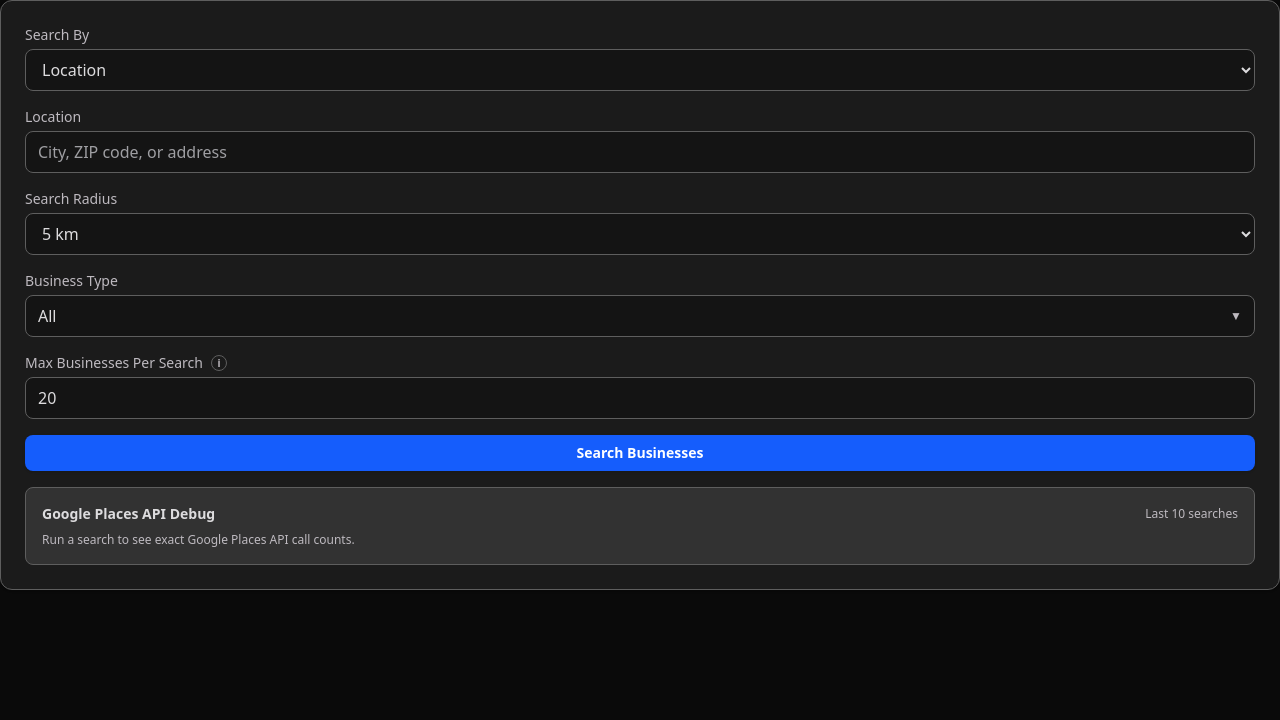
Test case: SearchForm › closes business type dropdown when Escape is pressed
Click the button with aria-label "business type": (47, 316) [25, 295, 1255, 337]
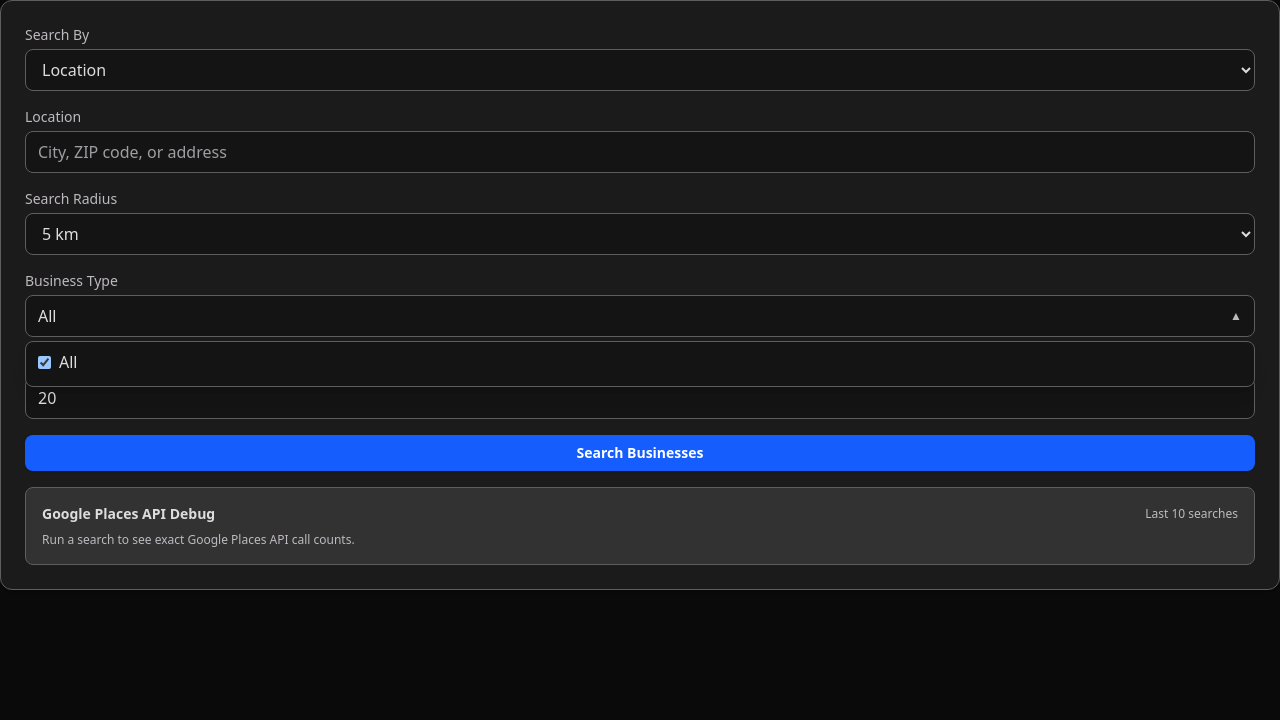
Expected: the button with aria-label "business type" is expanded, [25, 295, 1255, 337]
Press Escape
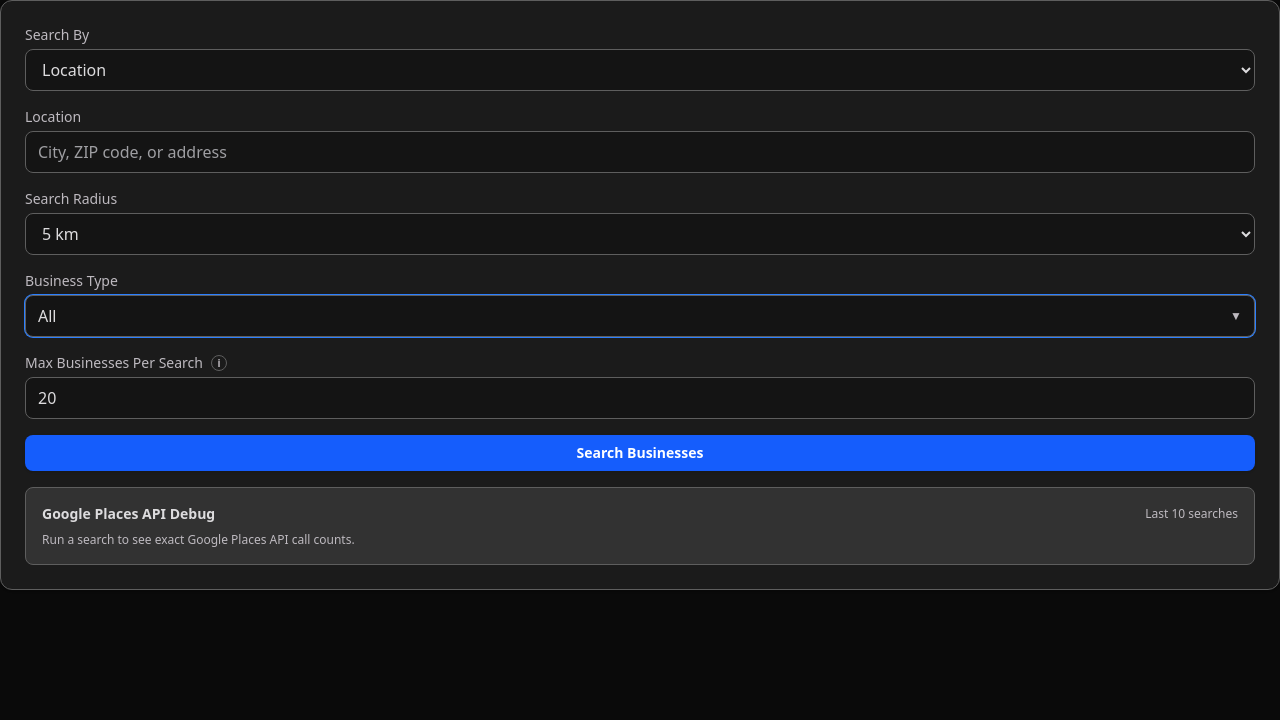
Expected: the button with aria-label "business type" is collapsed, [25, 295, 1255, 337]
